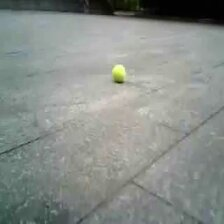tennis: (111, 65, 125, 82)
